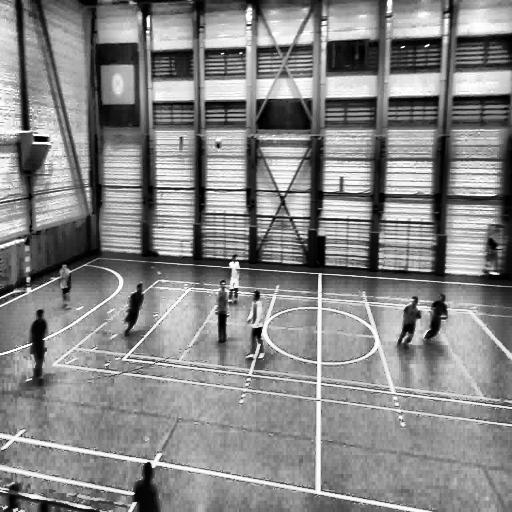ball: (214, 136, 222, 149)
player: (29, 307, 48, 385), (396, 295, 420, 349), (422, 293, 447, 343), (248, 291, 265, 361), (125, 283, 144, 337), (216, 280, 229, 345), (228, 255, 240, 304), (60, 263, 72, 309)
